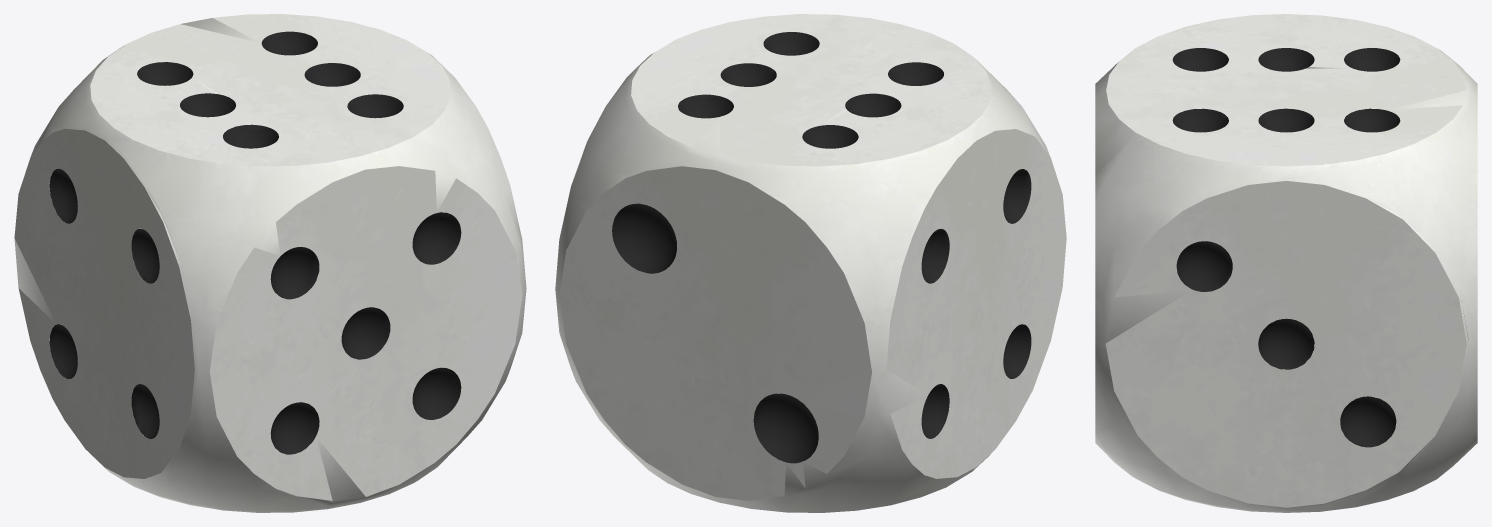
File: Dice3-01.glb
3 renders of one model, left to right at view 1: azimuth 30°, elevation 25°; view 2: azimuth 150°, elevation 25°; view 3: azimuth 270°, elevation 25°, orthographic.
Visible parts, largest first — view 1: dice; view 2: dice; view 3: dice.
Part boxes in pixels (x1,y1,x2,y2): dice: (14, 14, 526, 512); dice: (555, 14, 1066, 512); dice: (1095, 14, 1477, 512).
Bounding box in the file's own units: 2 × 2 × 2.
1 material, 1 textured.
